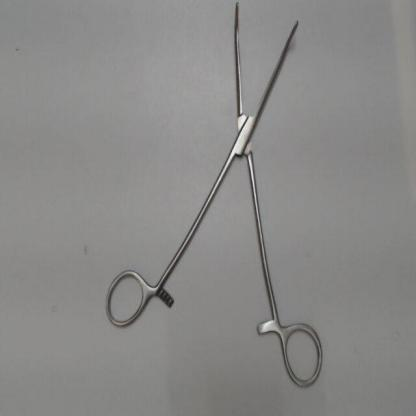Lahey Forceps: (100, 0, 327, 396)
